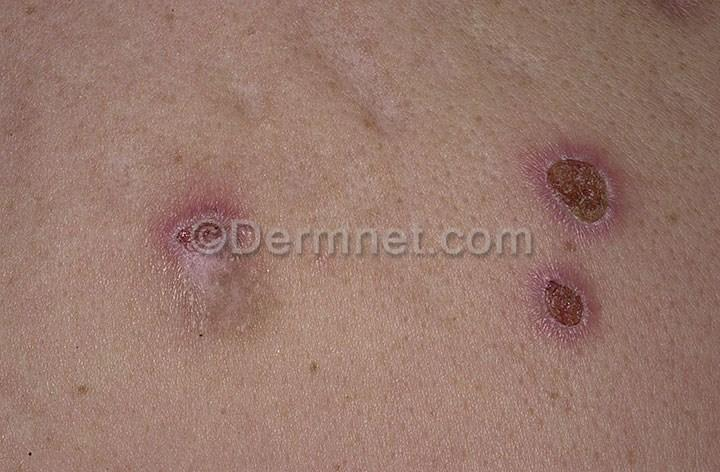Eczema: (133, 168, 286, 327), (497, 118, 642, 247), (501, 256, 611, 369)
